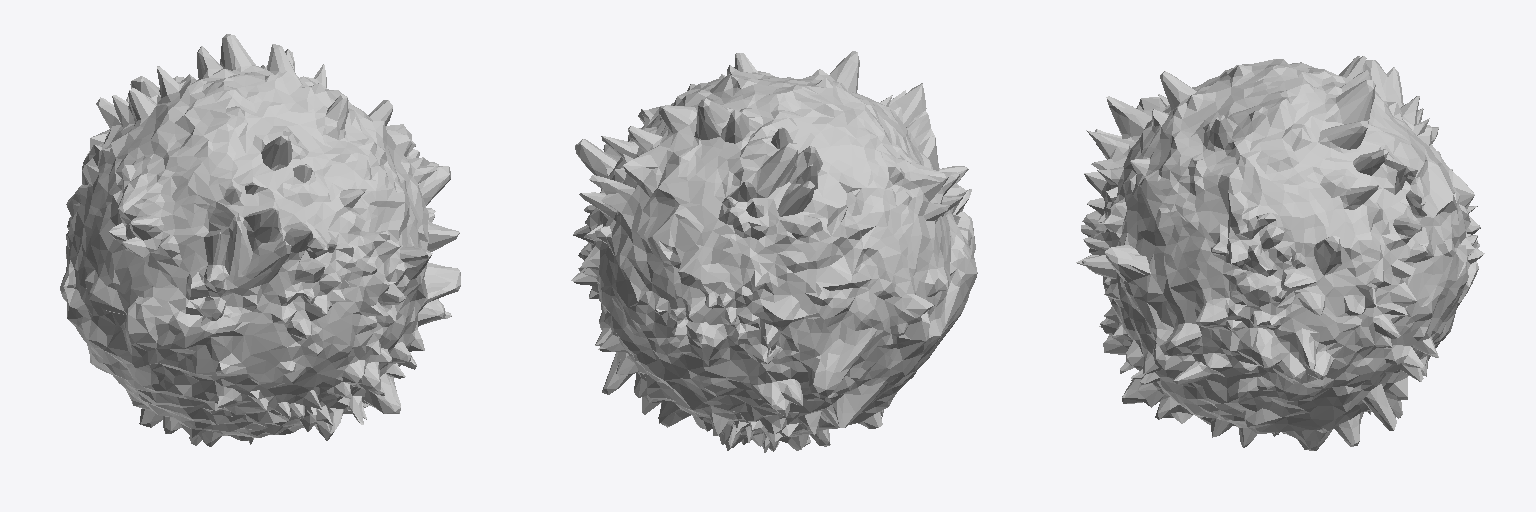
Rendered from Nebula_Shard_Sphere_0610134653_texture.obj.
3 views of the same model, side by side, from view 1: azimuth 30°, elevation 25°; view 2: azimuth 150°, elevation 25°; view 3: azimuth 270°, elevation 25° (orthographic).
Parts seen in each view (by area): view 1: Nebula_Shard_Sphere_[number redacted]_texture; view 2: Nebula_Shard_Sphere_[number redacted]_texture; view 3: Nebula_Shard_Sphere_[number redacted]_texture.
Part boxes in pixels (x1,y1,x2,y2): Nebula_Shard_Sphere_[number redacted]_texture: (60, 34, 460, 446); Nebula_Shard_Sphere_[number redacted]_texture: (571, 51, 977, 452); Nebula_Shard_Sphere_[number redacted]_texture: (1076, 56, 1484, 450).
Bounding box in the file's own units: 2 × 1.97 × 1.98.